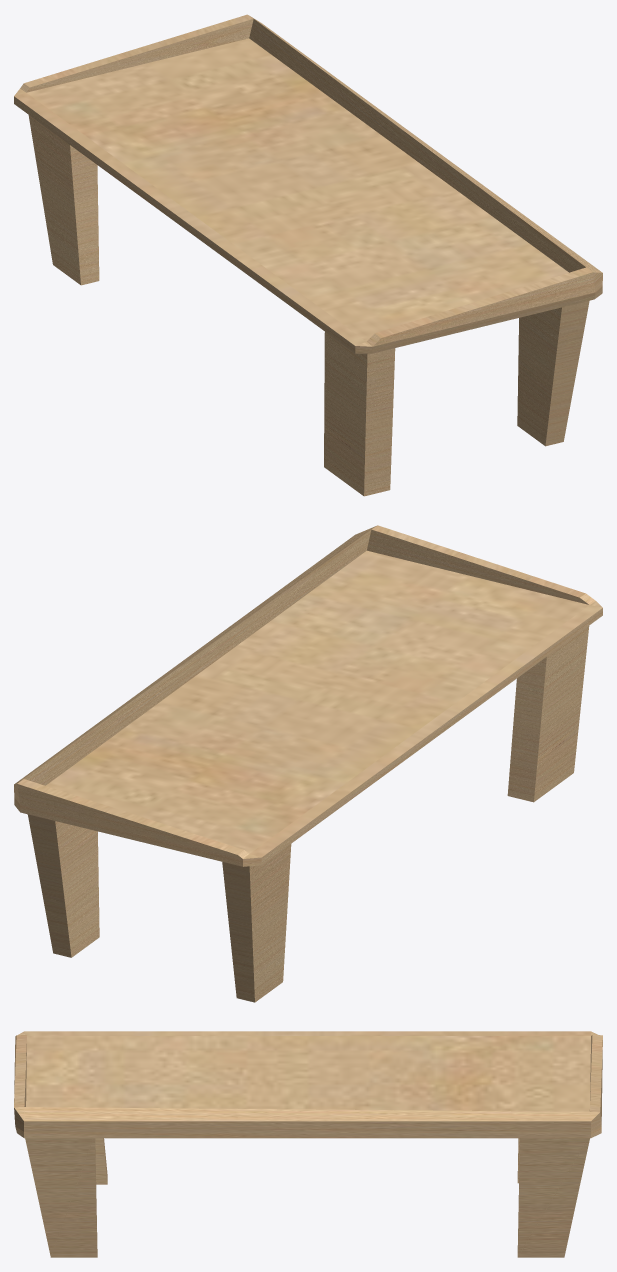
The model's file is stol.fbx.
3 renders of one model, top to bottom at view 1: azimuth 30°, elevation 25°; view 2: azimuth 150°, elevation 25°; view 3: azimuth 270°, elevation 25°, orthographic. The views are drawn at different scales.
Visible parts, largest first — view 1: Cube; view 2: Cube; view 3: Cube.
Boxes of the visible parts, box(x1,y1,x2,y2) form: Cube: box(14, 14, 602, 496); Cube: box(14, 525, 602, 1002); Cube: box(14, 1031, 602, 1257).
Bounding box in the file's own units: 300 × 214 × 744.
